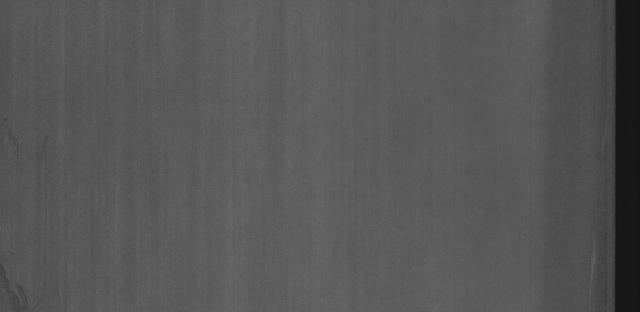water_spot: (0, 251, 43, 312)
